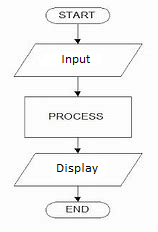arrow: (73, 22, 82, 44), (73, 75, 81, 96), (74, 135, 82, 154), (74, 184, 81, 202)
data: (12, 42, 144, 79), (13, 152, 144, 188)
process: (23, 95, 134, 140)
terminator: (44, 6, 111, 25), (44, 200, 111, 219)
text: (48, 111, 104, 121), (56, 162, 98, 174), (60, 53, 91, 66), (58, 10, 95, 20), (65, 205, 90, 213)
